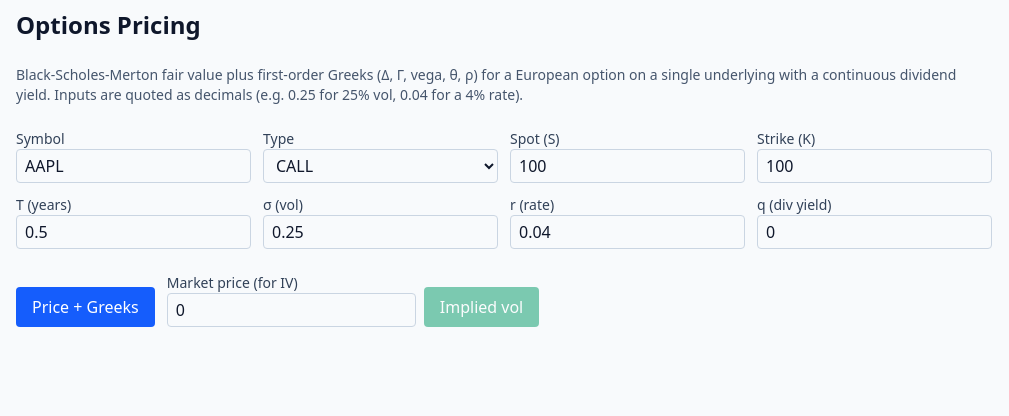
Options page › surfaces API errors
The image size is (1009, 416).
Click the button with test id "opt-price-btn": {"x": 85, "y": 307} [16,287,155,327]
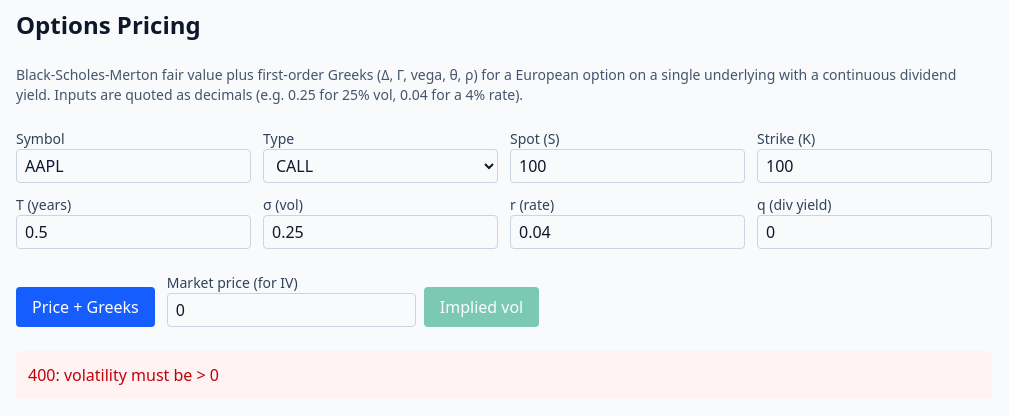
expect the text "400: volatility must be > 0" is shown: met, box [16,351,992,399]
